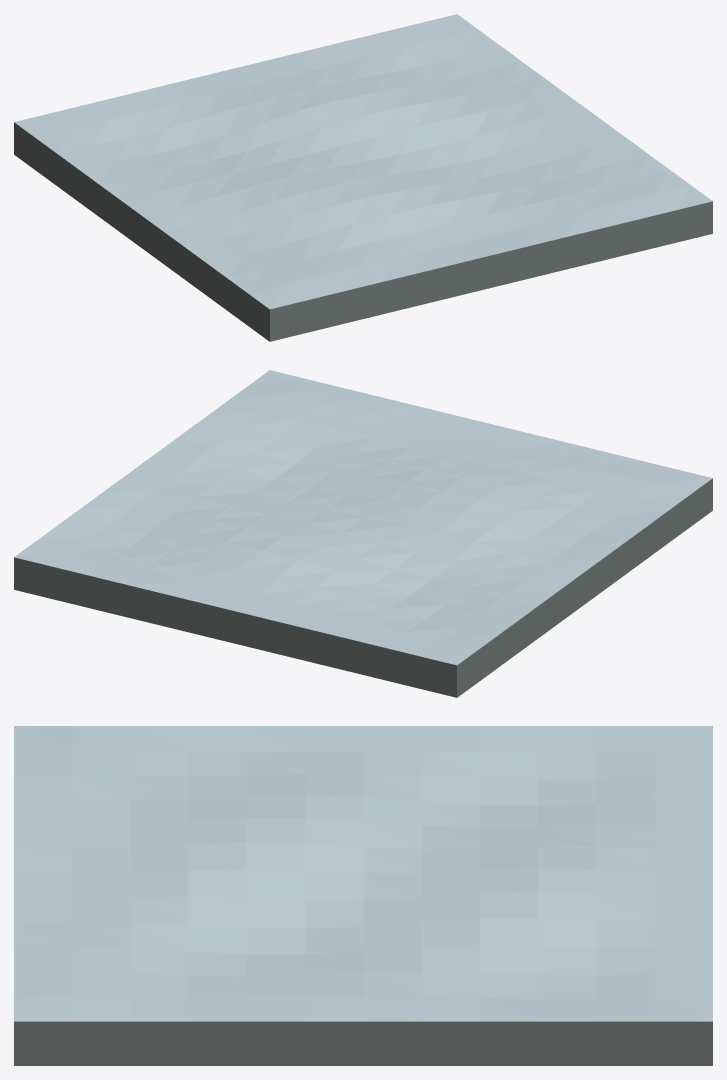
The model's file is SNOW_02_GroundPacked.glb.
The picture shows the model from 3 angles, top to bottom: view 1: azimuth 30°, elevation 25°; view 2: azimuth 150°, elevation 25°; view 3: azimuth 270°, elevation 25°; orthographic projection. The views are drawn at different scales.
Parts seen in each view (by area): view 1: SNOW_02_GroundPacked; view 2: SNOW_02_GroundPacked; view 3: SNOW_02_GroundPacked.
Boxes of the visible parts, x1=… form: SNOW_02_GroundPacked: x1=14, y1=14, x2=712, y2=341; SNOW_02_GroundPacked: x1=14, y1=370, x2=712, y2=697; SNOW_02_GroundPacked: x1=14, y1=726, x2=712, y2=1065.
Bounding box in the file's own units: 4 × 0.3247 × 4.
